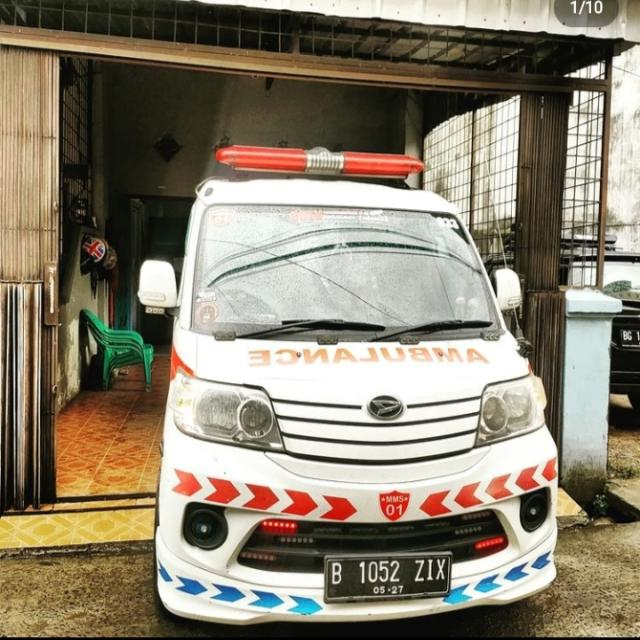emergency-vehicle: (132, 139, 576, 639)
